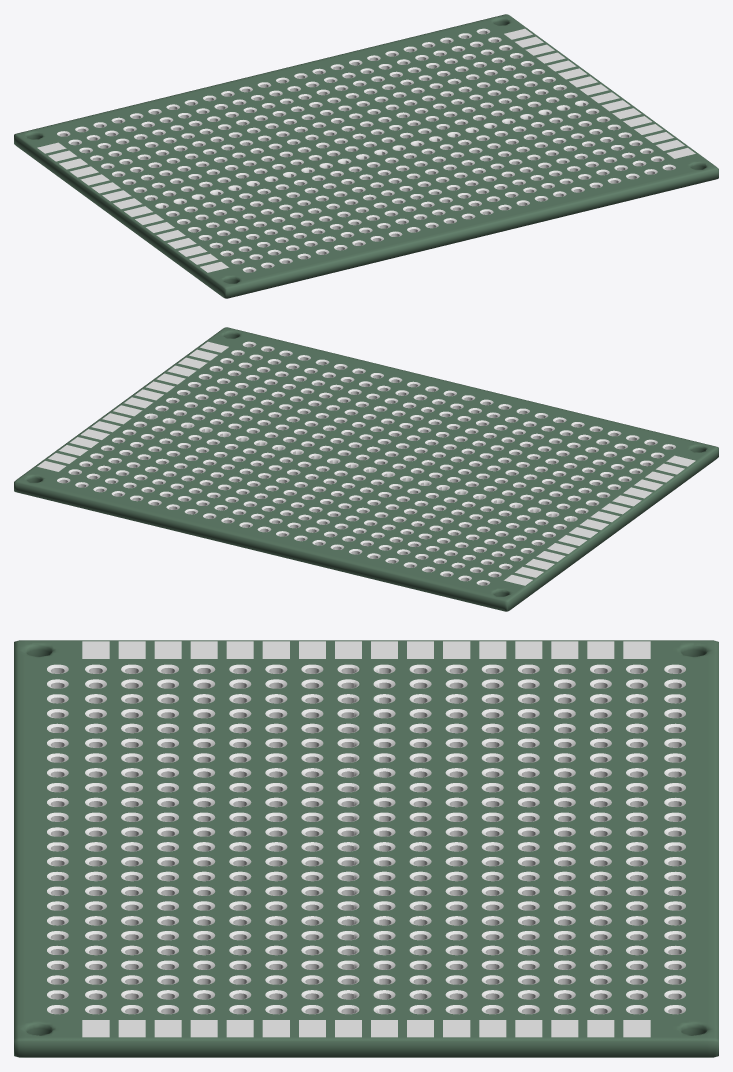
Rendered from breadboard.glb.
3 renders of one model, top to bottom at view 1: azimuth 30°, elevation 25°; view 2: azimuth 150°, elevation 25°; view 3: azimuth 270°, elevation 25°, orthographic. The views are drawn at different scales.
Visible parts, largest first — view 1: Cube.007; view 2: Cube.007; view 3: Cube.007.
Part boxes in pixels (left/top/right/bottom): Cube.007: left=14, top=14, right=718, bottom=298; Cube.007: left=14, top=327, right=718, bottom=611; Cube.007: left=14, top=640, right=718, bottom=1057.
Size of the model in its own units: 0.0688 by 0.00153 by 0.0512.
